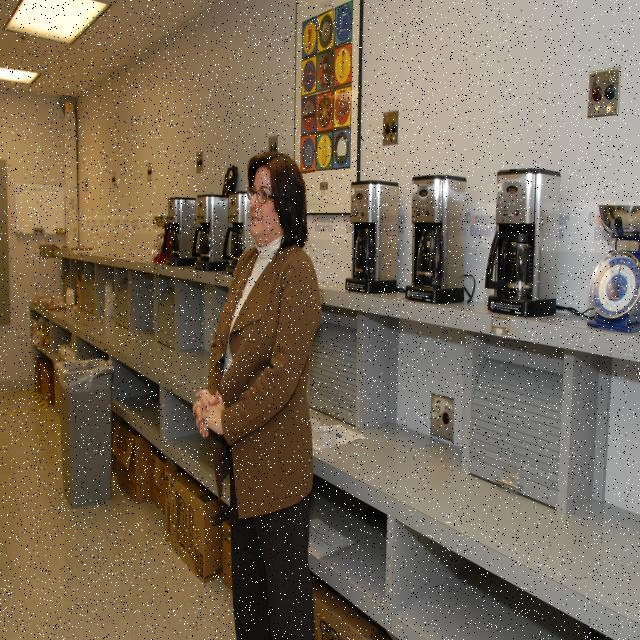Coffee-Machine: (472, 146, 572, 328), (397, 160, 477, 316), (339, 158, 405, 306)
